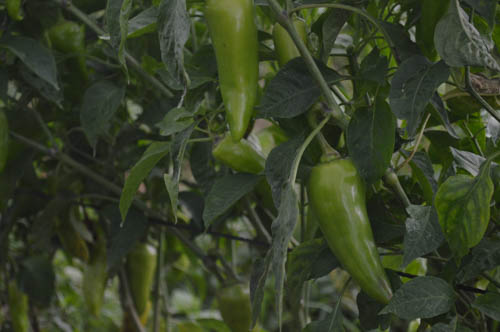ChiliPepper: (315, 160, 391, 300), (205, 2, 262, 139), (128, 243, 155, 317), (220, 138, 265, 182), (214, 286, 255, 328), (273, 20, 306, 71)
